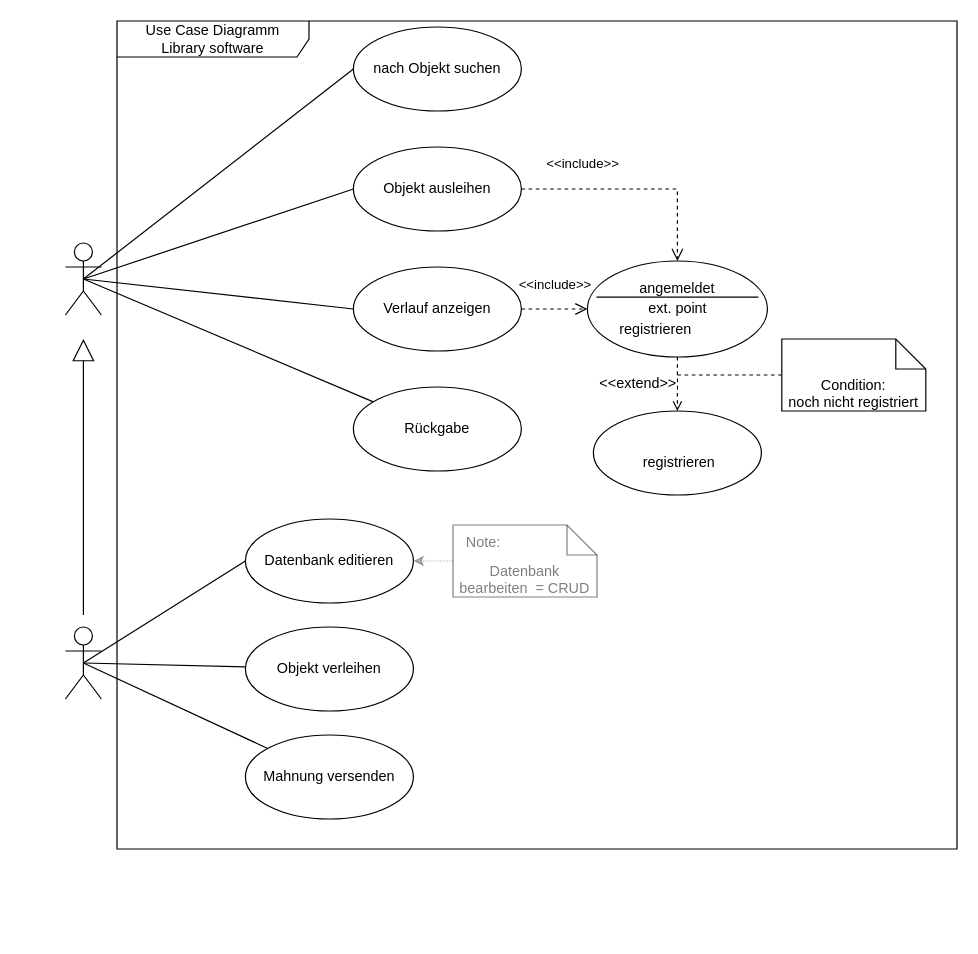
Image size: 978x954. Some labels were removed from this diagram. Here are the shapes that lost their labels. From the top down, the centre of each, then its label:
pixel 82 278: Leser
pixel 82 662: Bibliothekar
